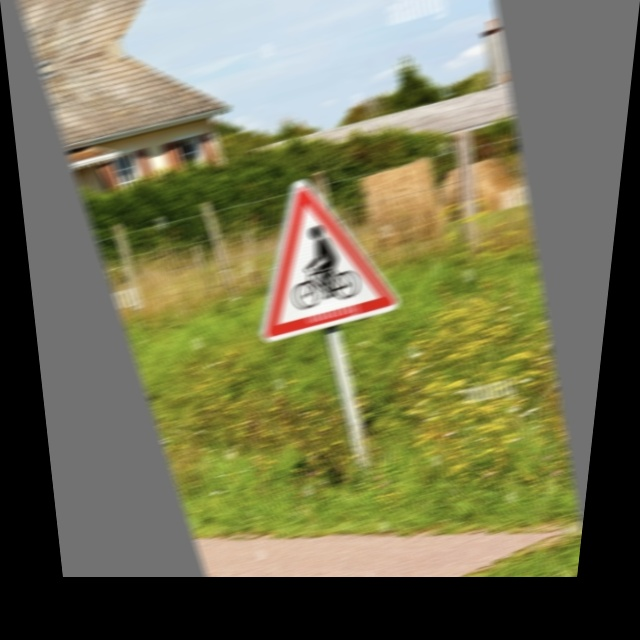Cycle_Crossing: (235, 164, 405, 345)
